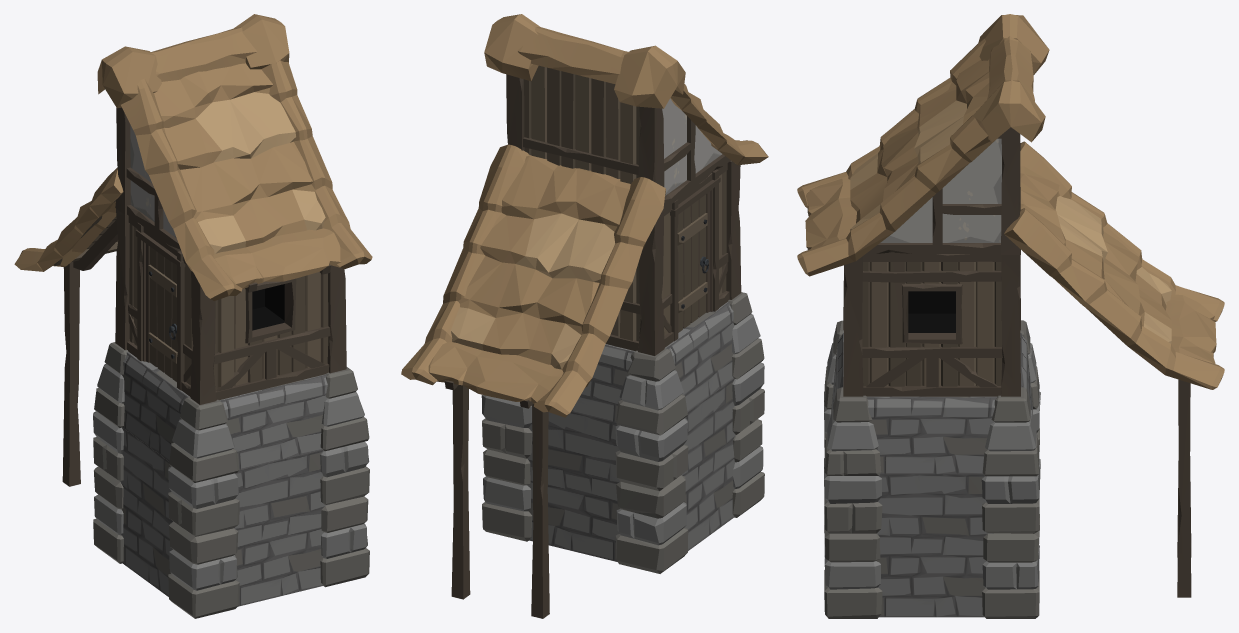
File: bld_hut2.gltf
3 views of the same model, side by side, from view 1: azimuth 30°, elevation 25°; view 2: azimuth 150°, elevation 25°; view 3: azimuth 270°, elevation 25° (orthographic). The views are drawn at different scales.
Visible parts, largest first — view 1: bld_hut2; view 2: bld_hut2; view 3: bld_hut2.
Boxes of the visible parts, x1,y1,x2,y2 form: bld_hut2: (14,14,372,618); bld_hut2: (401,14,768,618); bld_hut2: (797,14,1224,618).
Bounding box in the file's own units: 3.49 × 9.24 × 6.78.
1 material, 1 textured.
